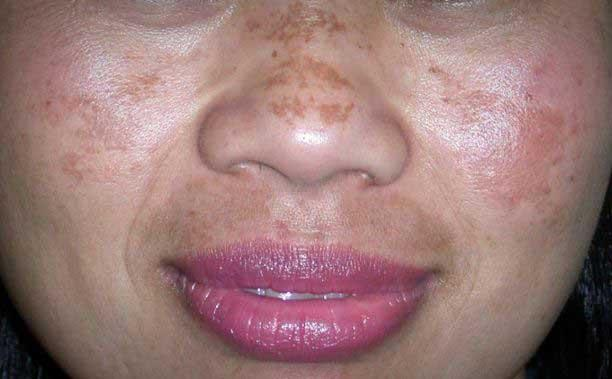Dark-Spots: (415, 50, 596, 231), (138, 190, 453, 259), (229, 1, 373, 131), (37, 61, 158, 185)
